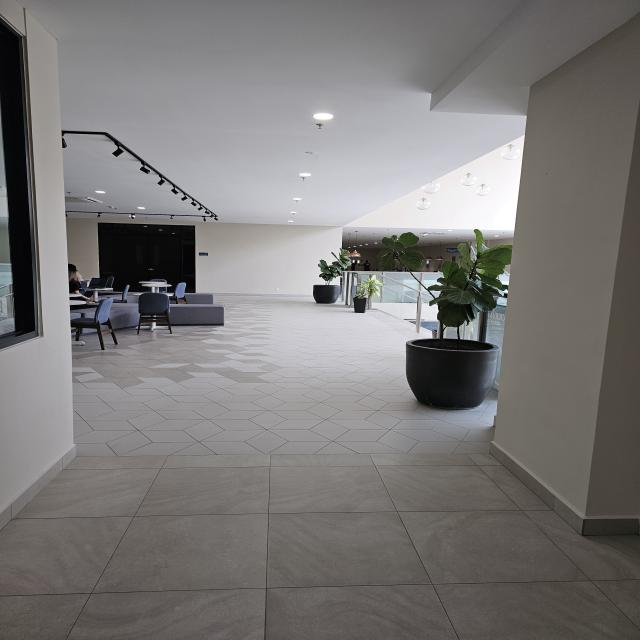footpath: (71, 353, 403, 638)
obstacle: (398, 302, 503, 408), (66, 292, 233, 346)
